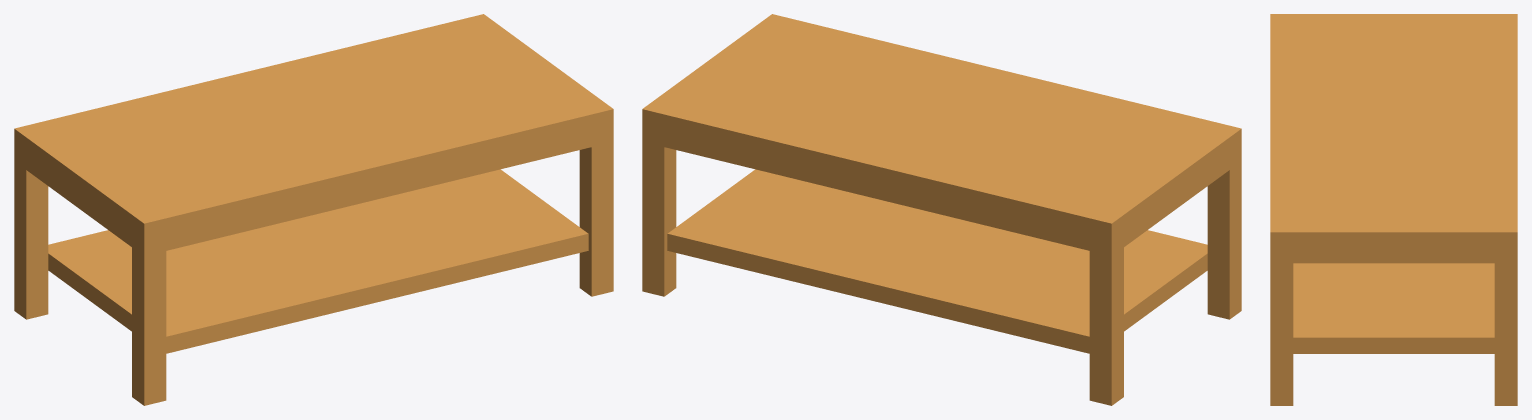
File: Table.fbx
The picture shows the model from 3 angles, left to right: view 1: azimuth 30°, elevation 25°; view 2: azimuth 150°, elevation 25°; view 3: azimuth 270°, elevation 25°; orthographic projection. The views are drawn at different scales.
Parts seen in each view (by area): view 1: Tabletop, Shelf, Leg3, Leg4, Leg2; view 2: Tabletop, Shelf, Leg4, Leg3, Leg1; view 3: Tabletop, Shelf, Leg1, Leg2.
Part boxes in pixels (x1,y1,x2,y2): Tabletop: (14,14,613,256); Shelf: (48,169,588,353); Leg3: (132,247,166,405); Leg4: (14,161,48,319); Leg2: (579,142,613,296); Tabletop: (642,14,1241,256); Shelf: (667,169,1207,353); Leg4: (1089,247,1123,405); Leg3: (1207,161,1241,319); Leg1: (642,142,676,296); Tabletop: (1270,14,1517,263); Shelf: (1293,263,1494,353); Leg1: (1494,263,1517,405); Leg2: (1270,263,1293,405).
Bounding box in the file's own units: 200 × 74.2 × 95.87.
